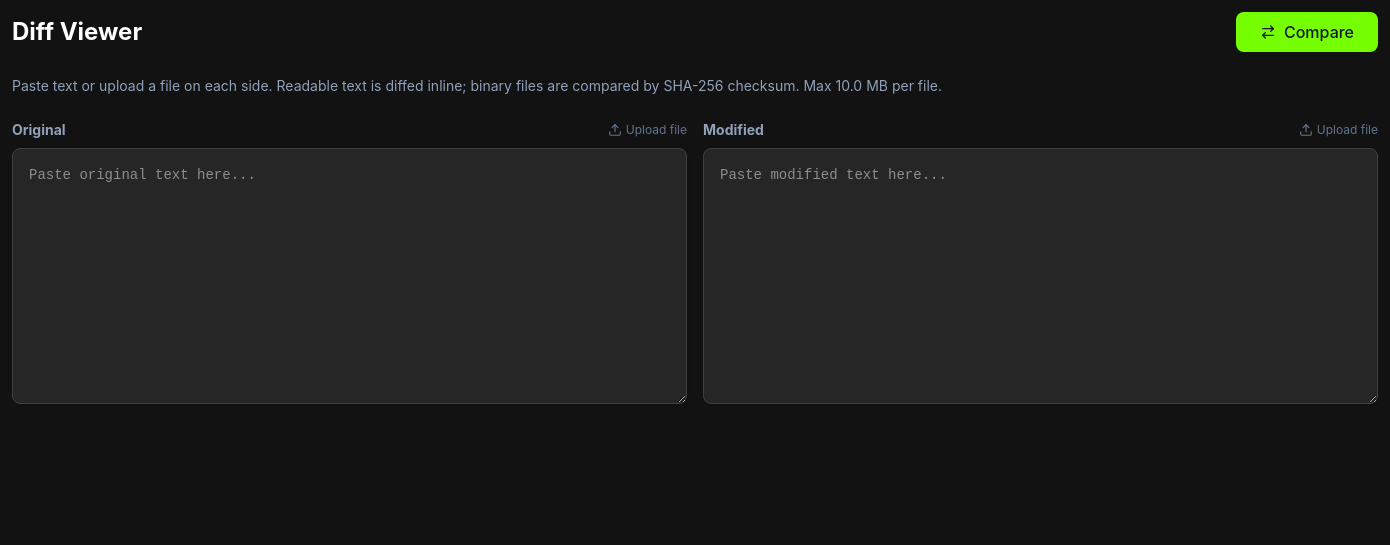
it: DiffTool › handles diff generation
The width and height of the screenshot is (1390, 545).
Type "old" into the text box with placeholder "Paste original text here..." at {"x": 350, "y": 276}, box x1=12 y1=148 x2=687 y2=404
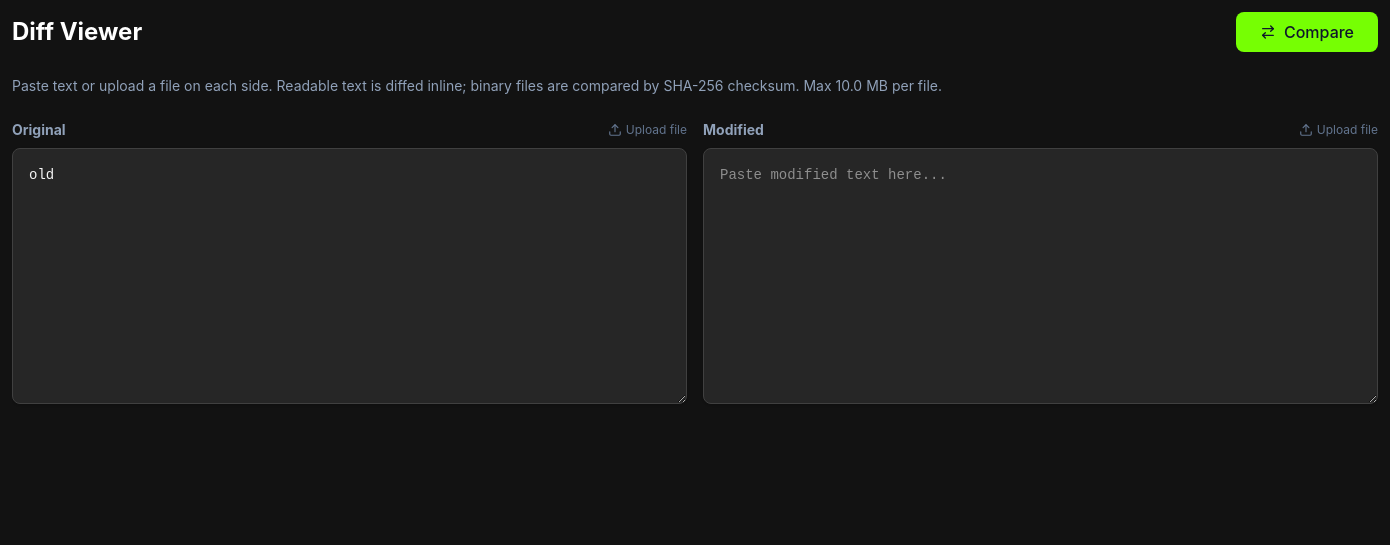
Type "new" into the text box with placeholder "Paste modified text here..." at {"x": 1040, "y": 276}, box x1=703 y1=148 x2=1378 y2=404
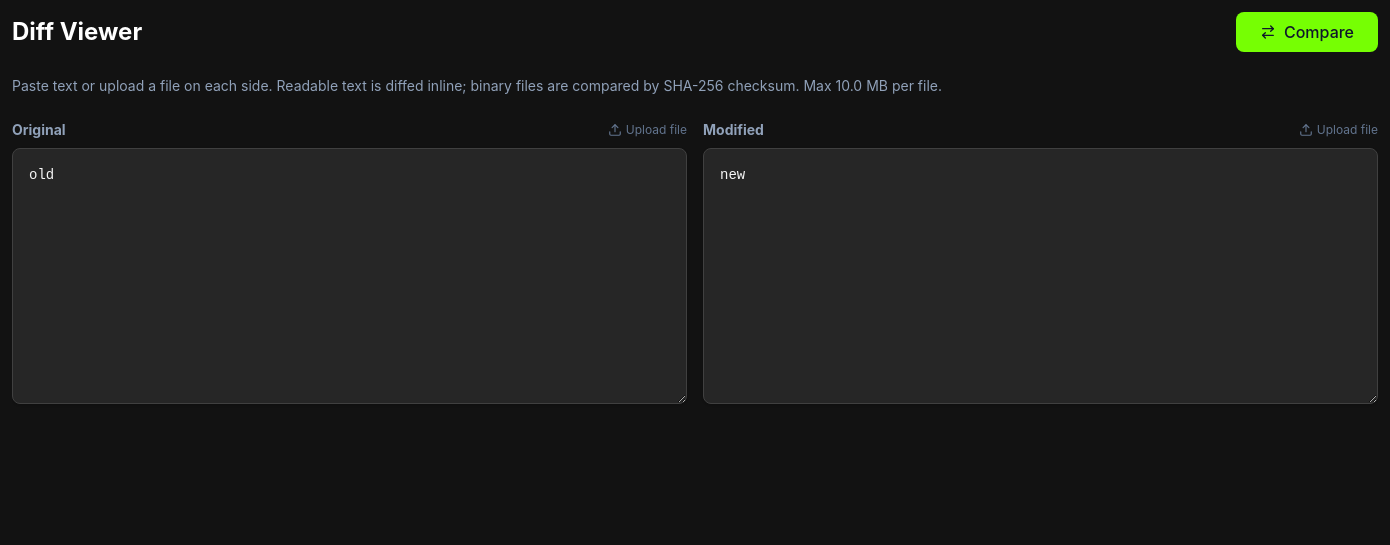
Click the button "Compare" at {"x": 1307, "y": 32}, box x1=1236 y1=12 x2=1378 y2=52
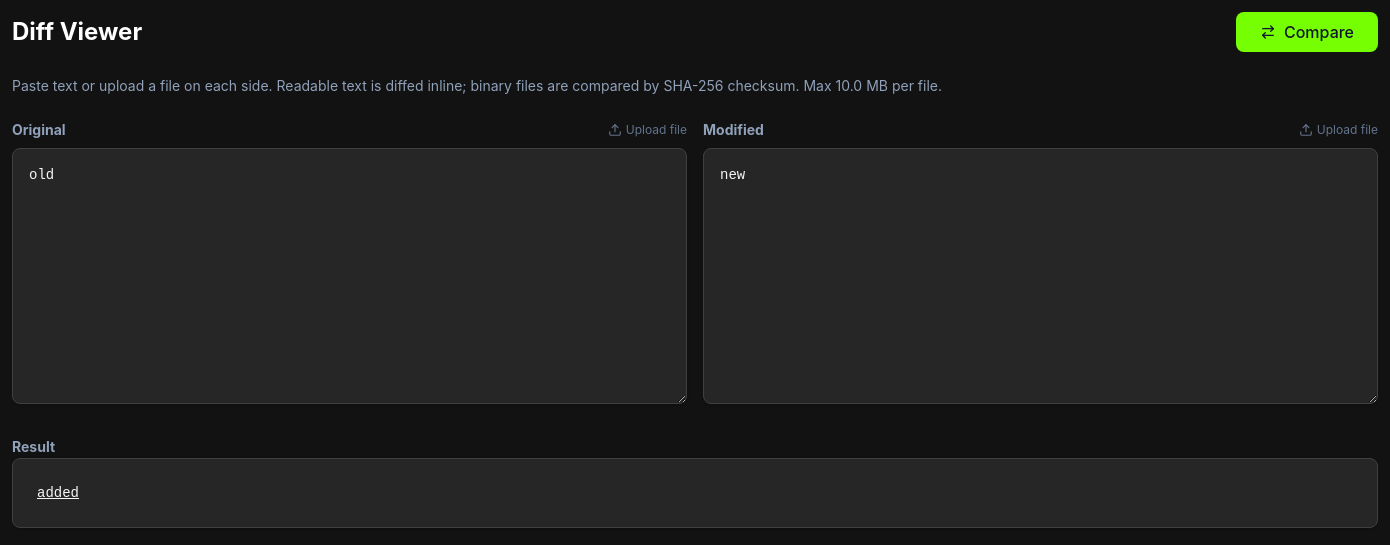
Now the element with test id "diff-output" reads "added", box x1=37 y1=485 x2=79 y2=501
